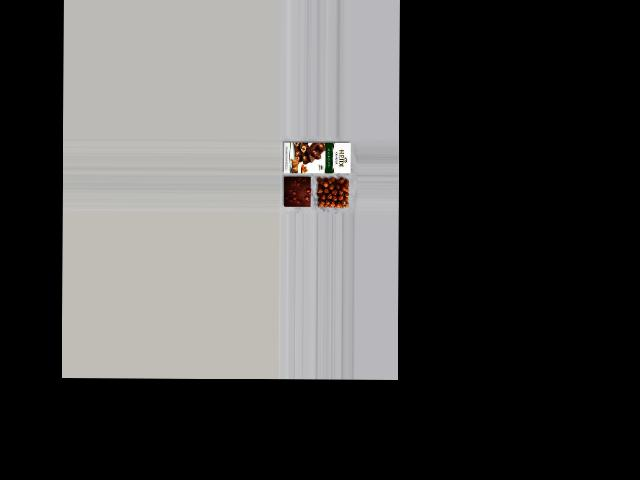chocolate: (282, 175, 311, 210)
